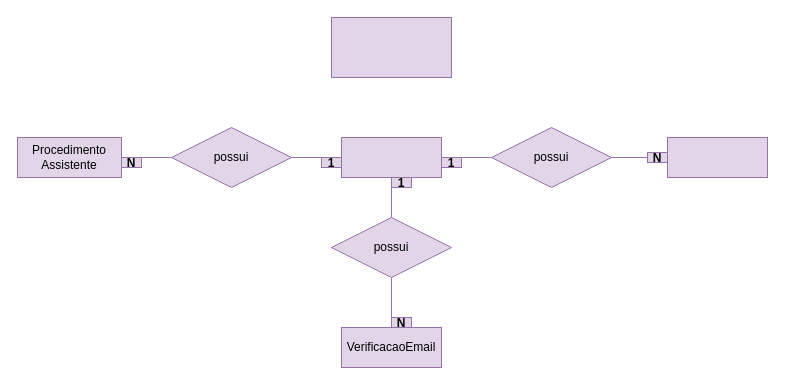
Image size: 785x385. Some labels were removed from this diagram. Here are the shapes that lost their labels. From the top down, the box of each, then its label:
(330, 16, 452, 78): Manhã
(340, 136, 442, 178): Assistente
(666, 136, 768, 178): Execucoes
